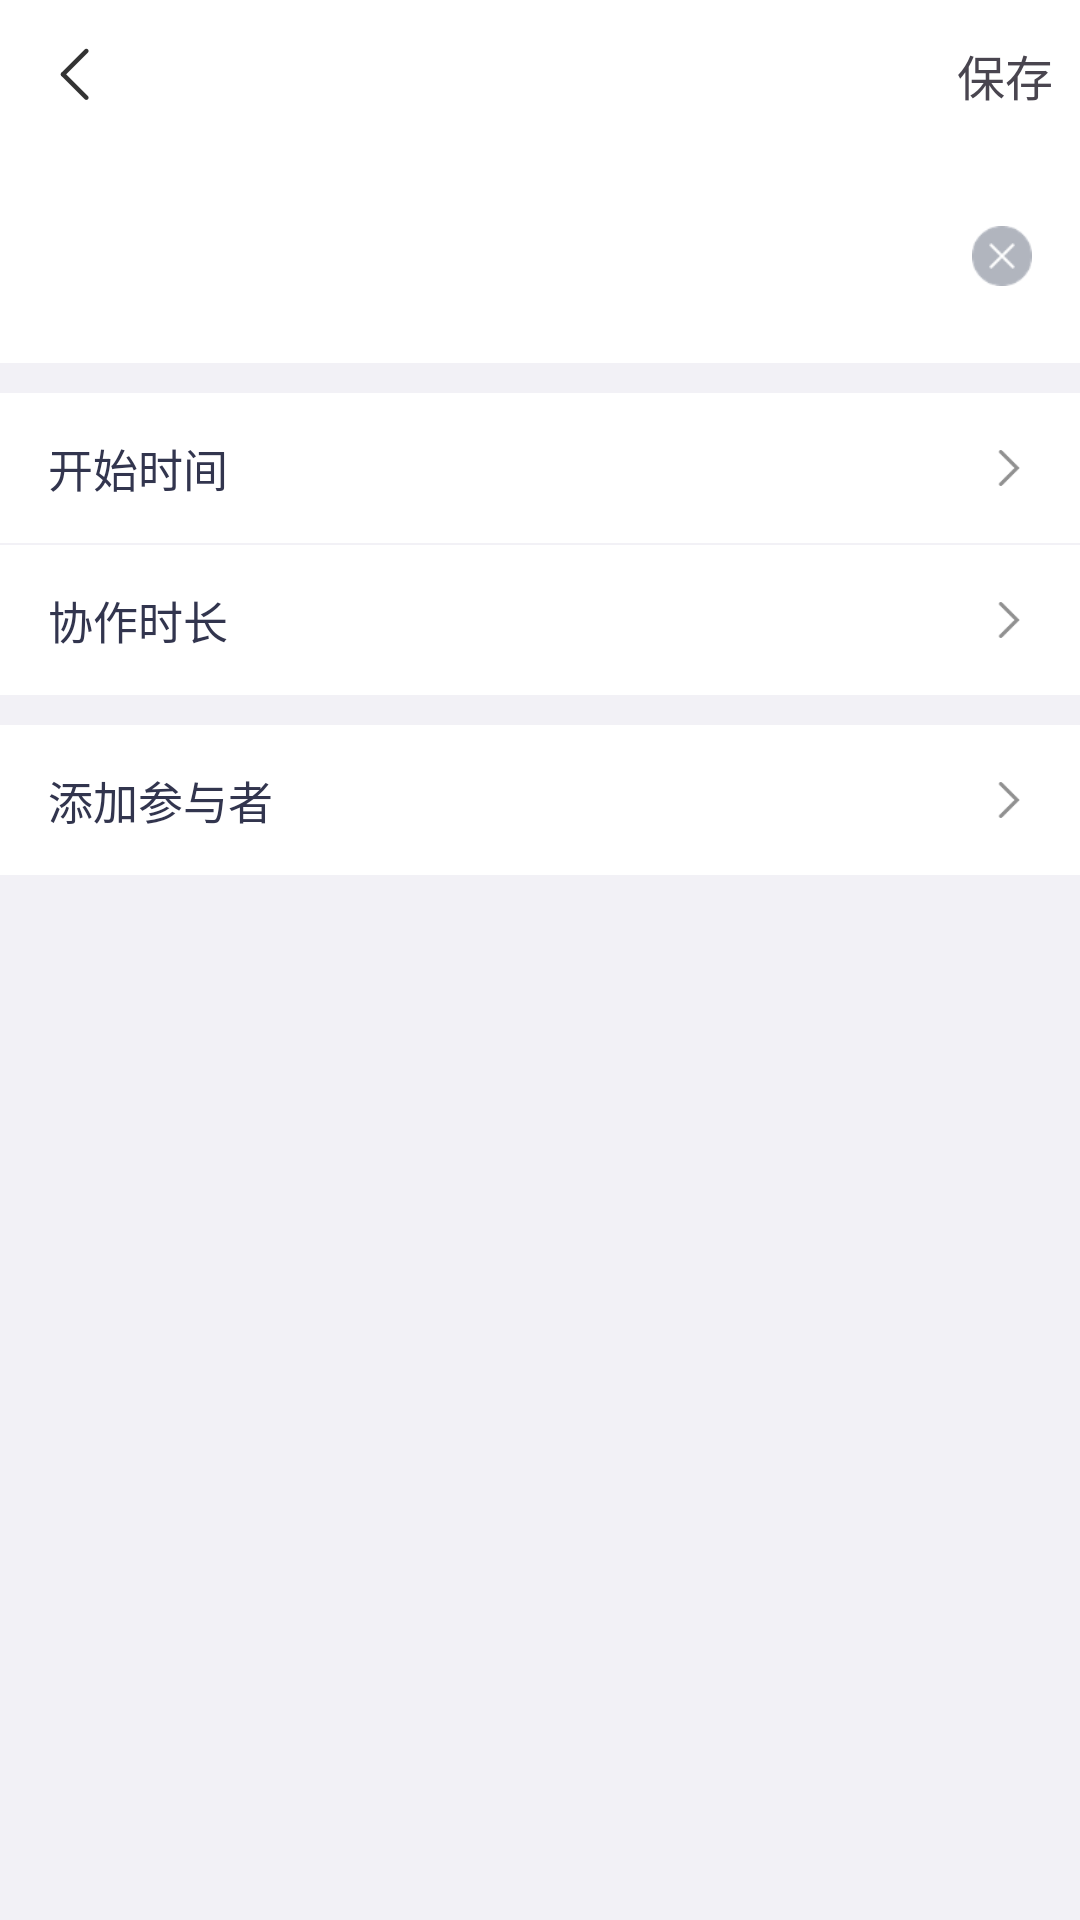

Locate icon controls on the screen. Image size 1080x1920, boxes as (x1, y1, x2, y2).
back: (60, 48, 89, 100)
edit clear: (972, 226, 1032, 286)
meeting arrow: (999, 450, 1020, 486), (999, 602, 1020, 638), (999, 782, 1020, 818)
